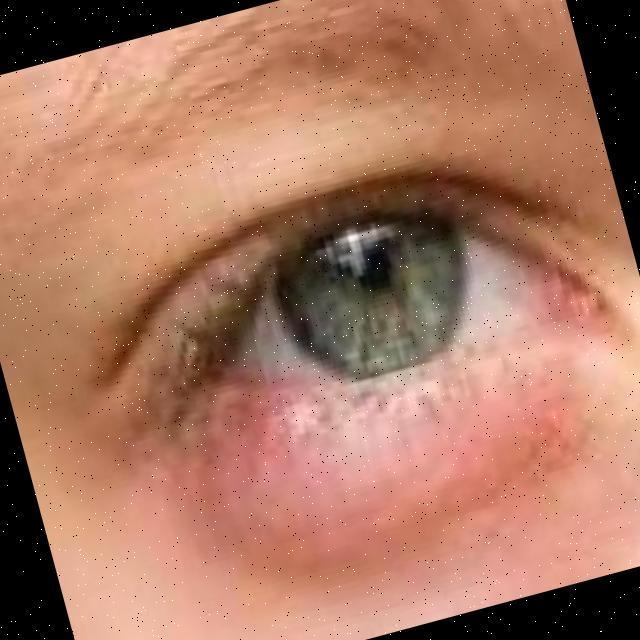Stye: (97, 259, 636, 622)
